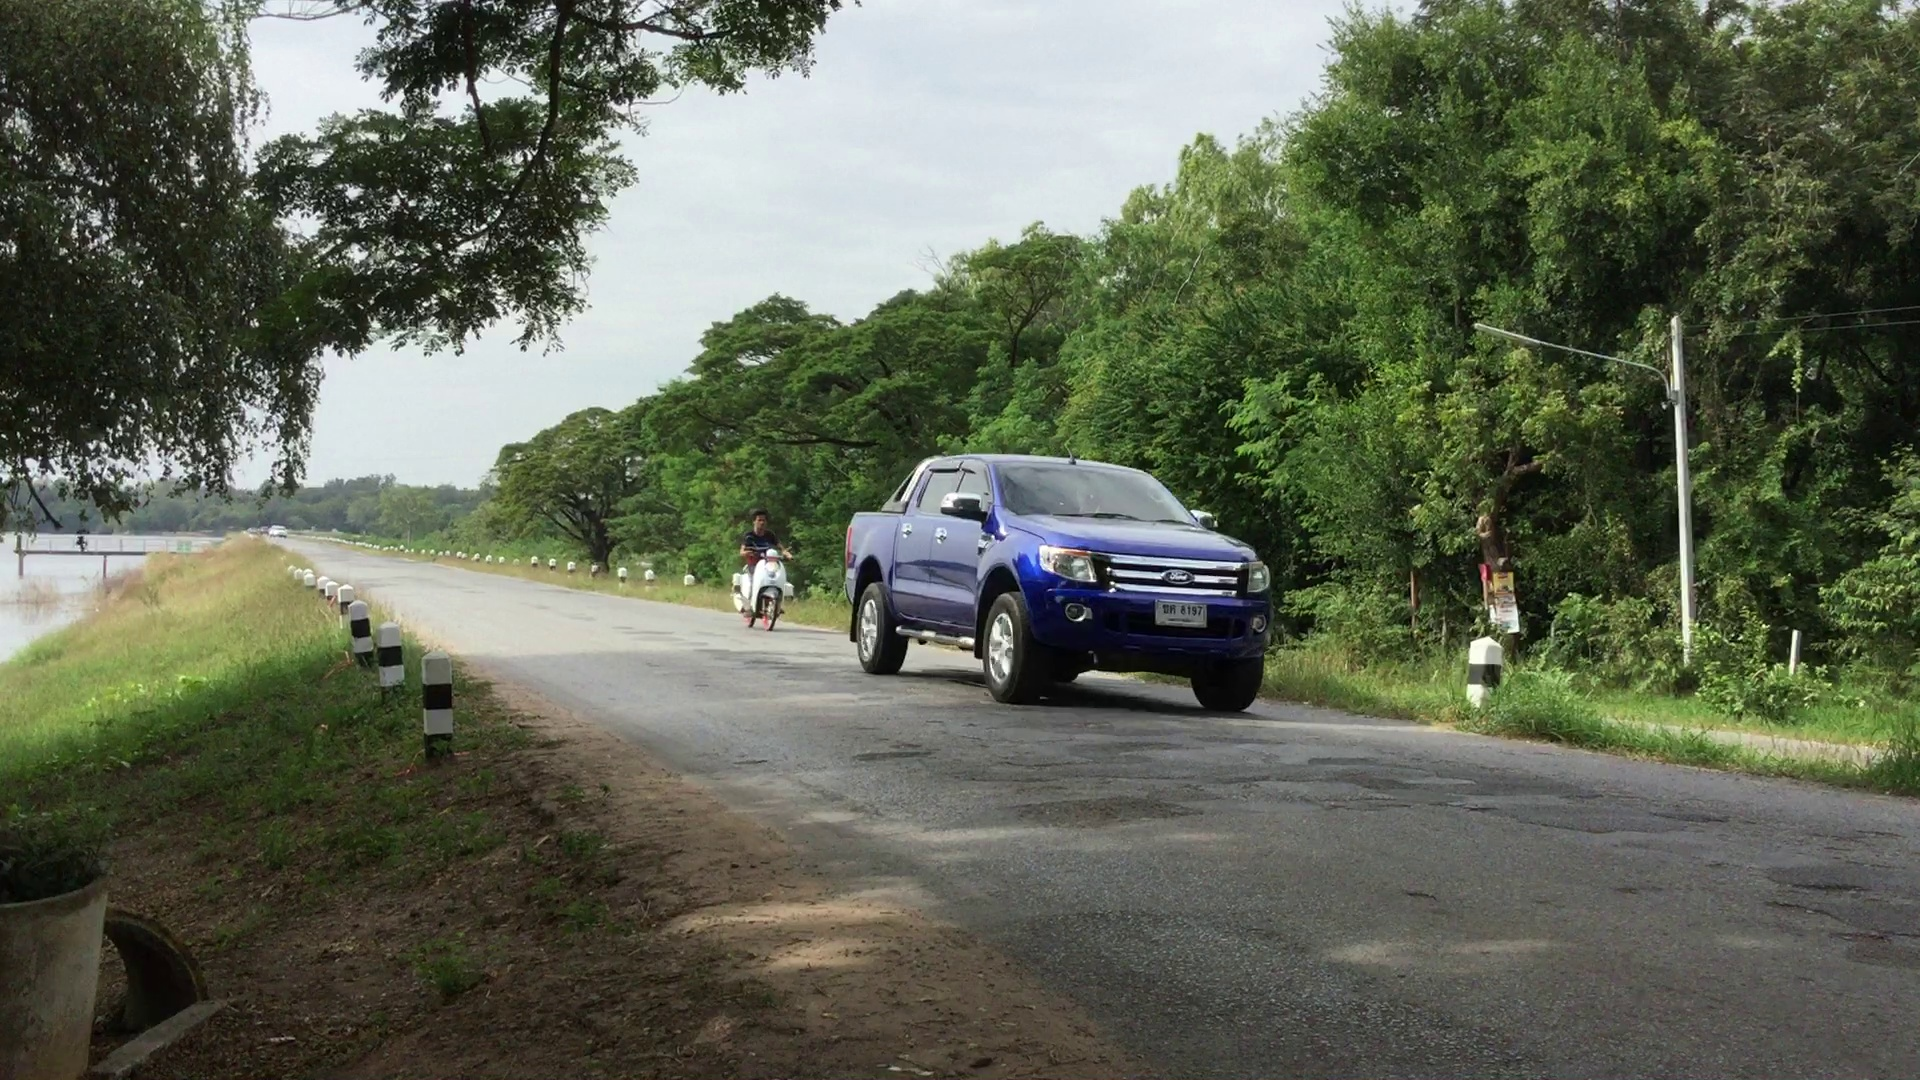car: (844, 459, 1268, 706)
person: (746, 514, 793, 628)
